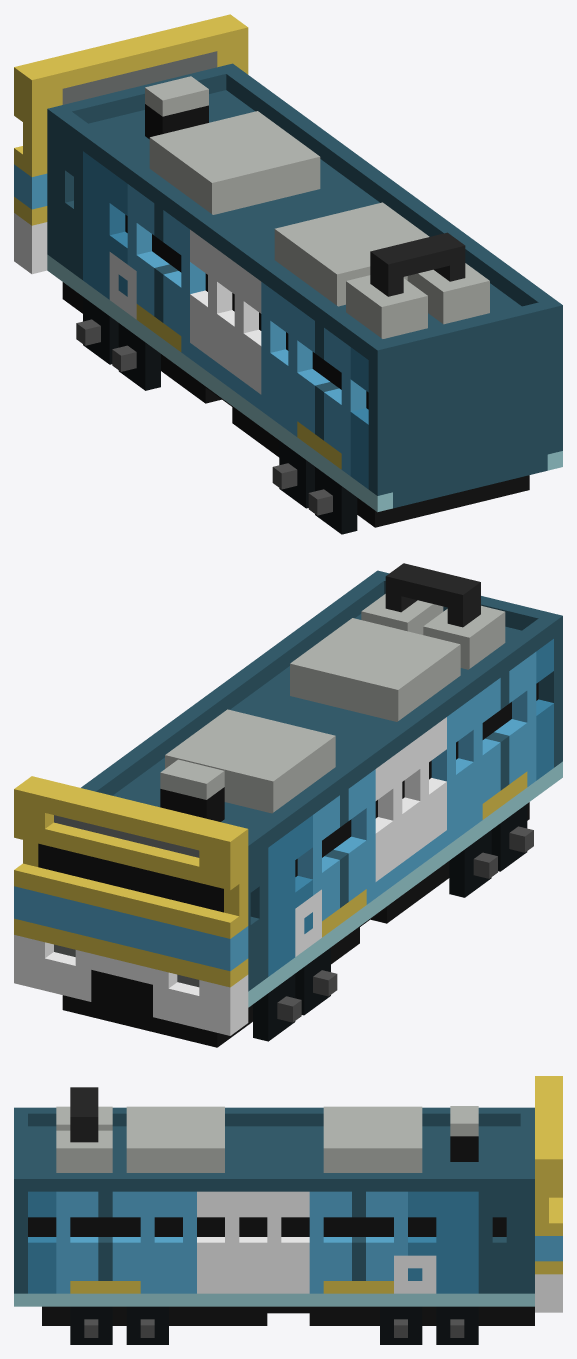
The model's file is CrossyTrain.obj.
3 views of the same model, one above another, from view 1: azimuth 30°, elevation 25°; view 2: azimuth 150°, elevation 25°; view 3: azimuth 270°, elevation 25° (orthographic). The views are drawn at different scales.
Bounding box in the file's own units: 1.4 × 1.6 × 3.9.
Materials: 1 (1 with a texture image).
